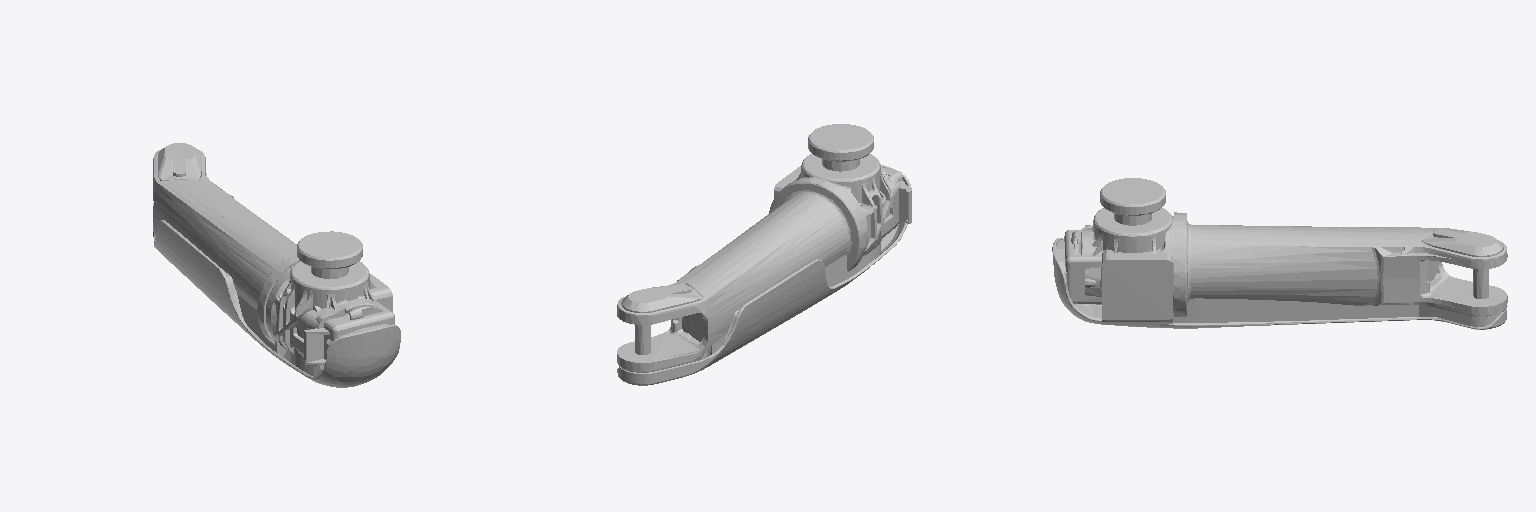
The model's file is rear_right_upper_leg.obj.
3 renders of one model, left to right at view 1: azimuth 30°, elevation 25°; view 2: azimuth 150°, elevation 25°; view 3: azimuth 270°, elevation 25°, orthographic.
Visible parts, largest first — view 1: _2-042137-001-A00_TOP_LEVEL_DEFEATURED_-_NOT_FOR_PRODUCTION_004; view 2: _2-042137-001-A00_TOP_LEVEL_DEFEATURED_-_NOT_FOR_PRODUCTION_004; view 3: _2-042137-001-A00_TOP_LEVEL_DEFEATURED_-_NOT_FOR_PRODUCTION_004.
Part boxes in pixels (left/top/right/bottom): _2-042137-001-A00_TOP_LEVEL_DEFEATURED_-_NOT_FOR_PRODUCTION_004: left=153, top=143, right=400, bottom=387; _2-042137-001-A00_TOP_LEVEL_DEFEATURED_-_NOT_FOR_PRODUCTION_004: left=617, top=124, right=911, bottom=385; _2-042137-001-A00_TOP_LEVEL_DEFEATURED_-_NOT_FOR_PRODUCTION_004: left=1052, top=178, right=1507, bottom=329.
Size of the model in its own units: 0.1011 by 0.1322 by 0.4185.